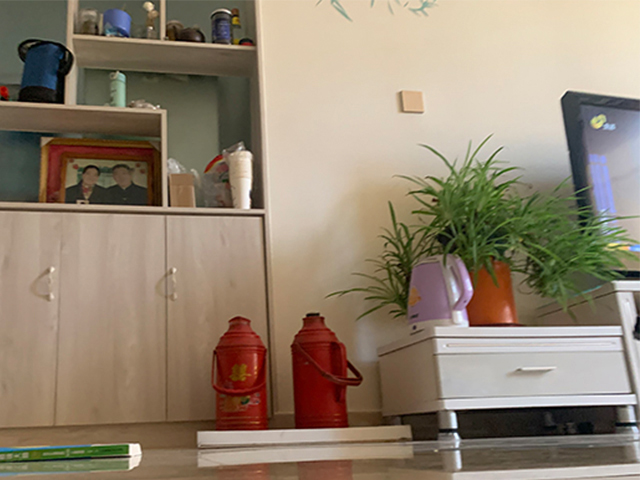book: (1, 441, 144, 464)
cabinet: (1, 202, 264, 450), (377, 278, 640, 444)
